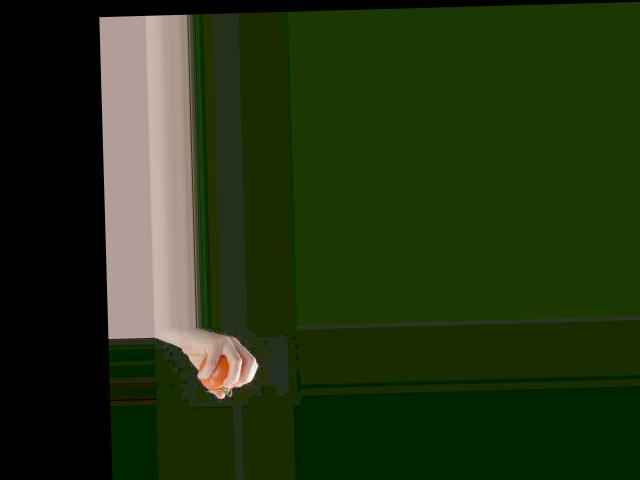tomato: (198, 353, 234, 389)
